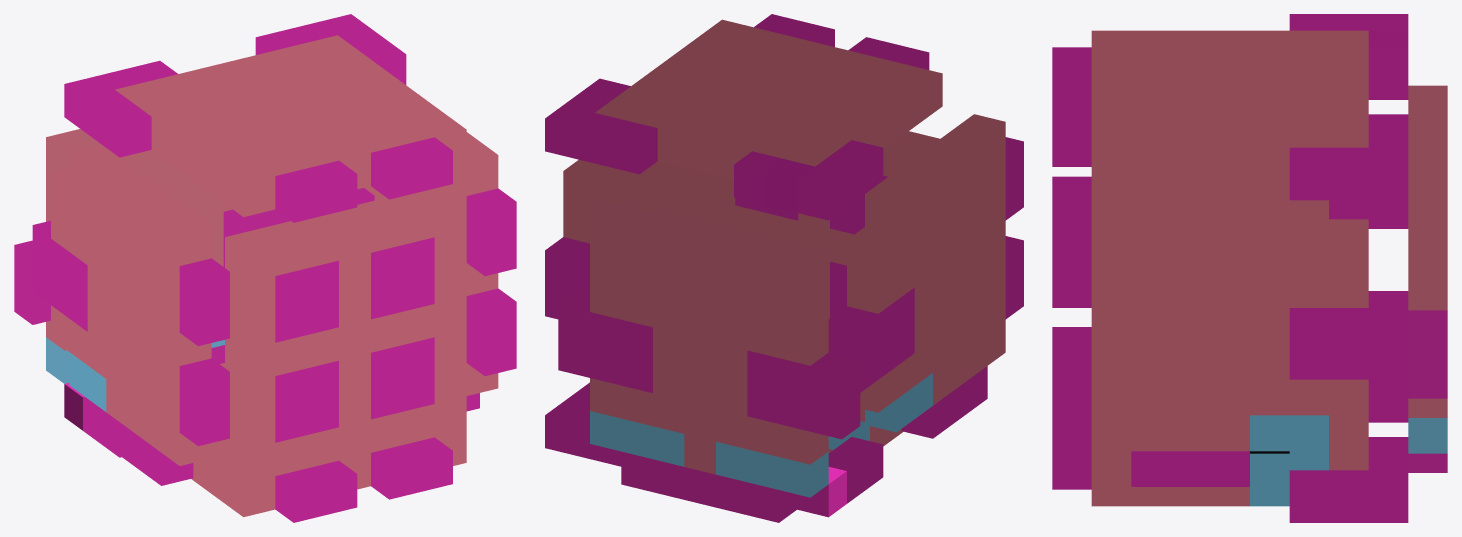
File: MyName.obj
The picture shows the model from 3 angles, left to right: view 1: azimuth 30°, elevation 25°; view 2: azimuth 150°, elevation 25°; view 3: azimuth 270°, elevation 25°; orthographic projection. The views are drawn at different scales.
Parts seen in each view (by area): view 1: bale; view 2: bale; view 3: bale.
Part boxes in pixels (<box>): bale: <box>14,14,516,522</box>; bale: <box>545,14,1023,522</box>; bale: <box>1052,14,1447,522</box>.
Bounding box in the file's own units: 10 × 10 × 10.
